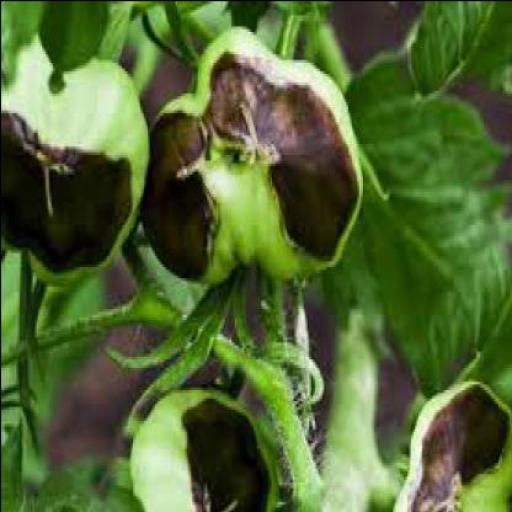biodegradable: (144, 19, 362, 280), (2, 36, 151, 286), (132, 383, 282, 509), (392, 374, 510, 511)
